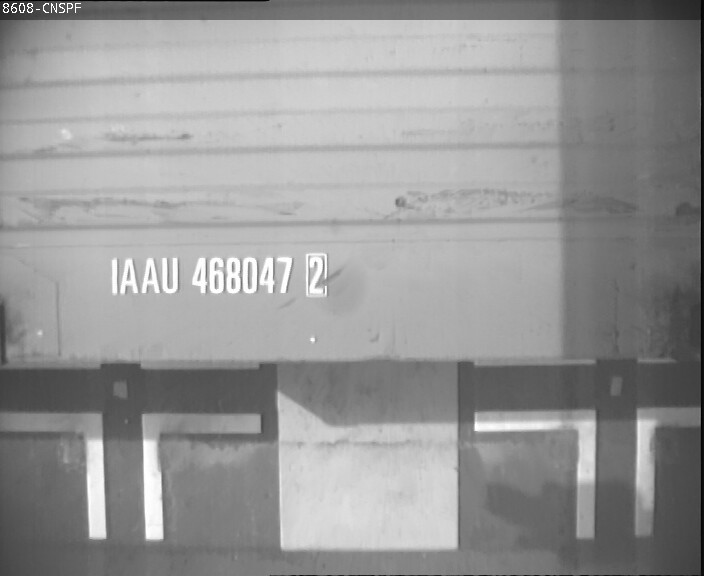groundmarker_1: (1, 412, 264, 543), (471, 412, 704, 537)
